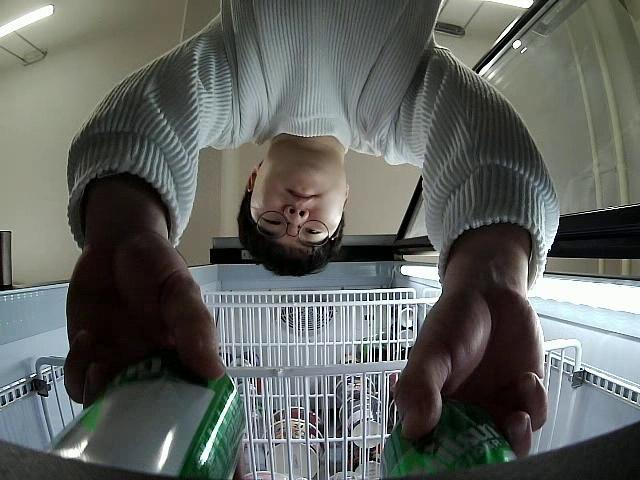12_chilsungCider: (44, 350, 248, 480), (376, 402, 521, 480)
